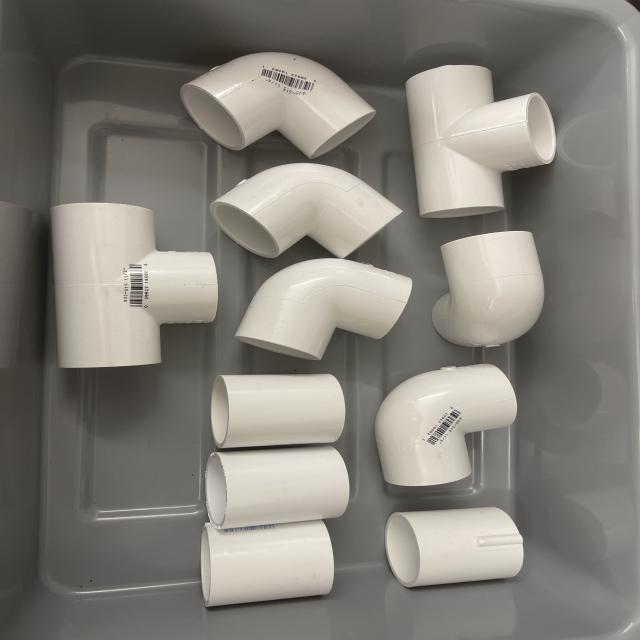L Joint: (182, 52, 376, 162), (235, 260, 414, 363), (374, 364, 518, 490), (219, 163, 400, 260), (431, 231, 548, 350)
T Joint: (51, 203, 220, 373), (405, 62, 557, 220)
